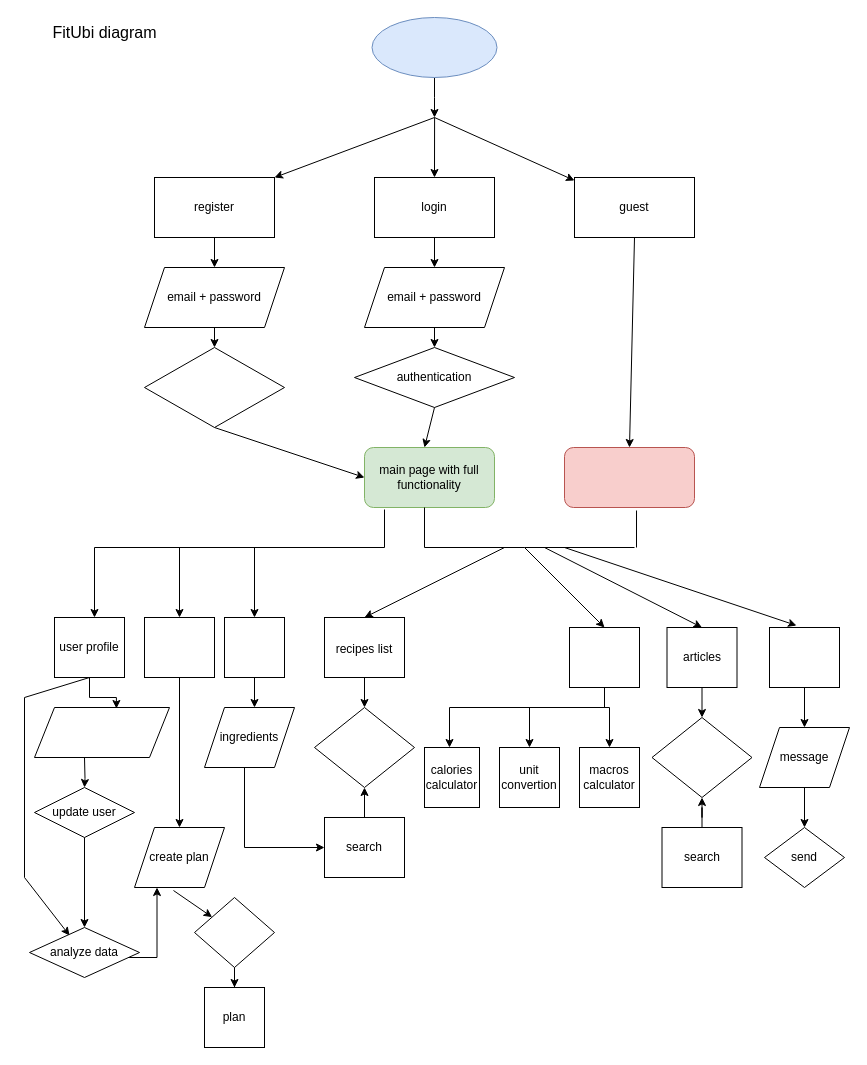
Image size: 867x1065. Some labels were removed from this diagram. The box of each missing label's shape, as (x1, y1, x2, y2) in pixels:
add user to DB: (144, 346, 284, 428)
articles from DB: (651, 716, 752, 798)
contact: (768, 626, 840, 688)
main page with basic functionality: (564, 446, 694, 508)
plans: (144, 616, 214, 678)
recipes from DB: (314, 706, 414, 788)
save plan: (194, 896, 274, 968)
Start: (371, 16, 497, 78)
user data: weight, preferences etc.: (34, 706, 170, 758)
utilities: (568, 626, 640, 688)
your fridge: (224, 616, 284, 678)
